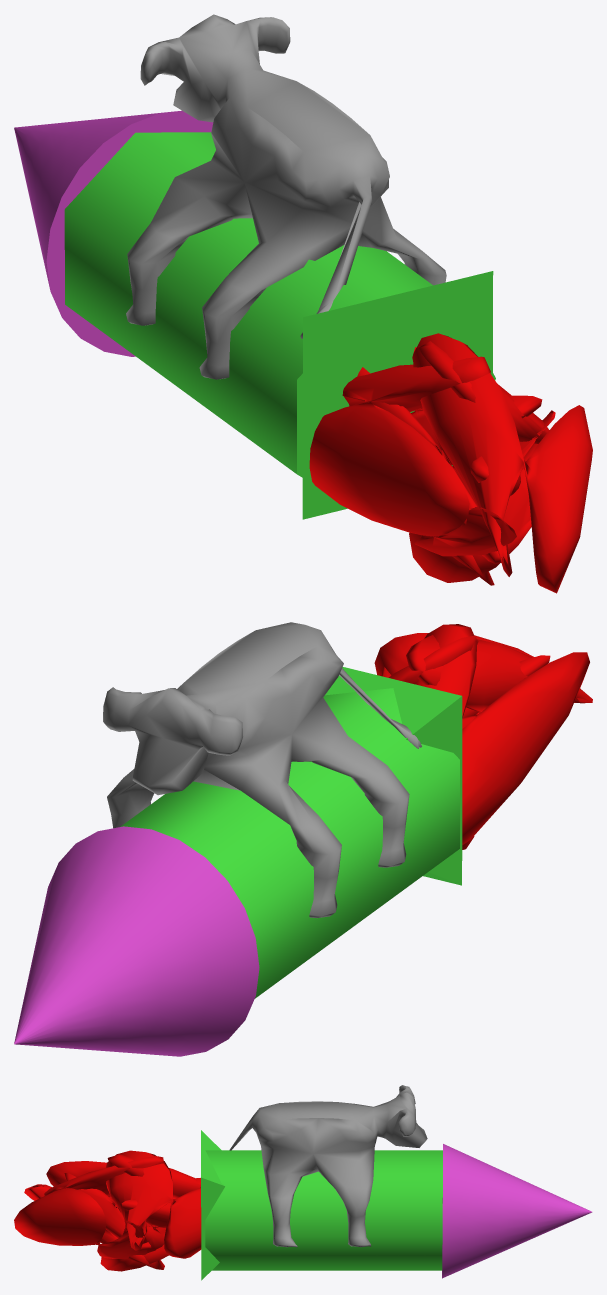
The model's file is RocketCow.FBX.
3 renders of one model, top to bottom at view 1: azimuth 30°, elevation 25°; view 2: azimuth 150°, elevation 25°; view 3: azimuth 270°, elevation 25°, orthographic. The views are drawn at different scales.
Visible parts, largest first — view 1: Box001, Torus Knot001, Cylinder001, Pyramid001, Cone001; view 2: Cone001, Box001, Cylinder001, Torus Knot001, Pyramid001; view 3: Cylinder001, Torus Knot001, Box001, Cone001, Pyramid001.
Part boxes in pixels (x1,y1,x2,y2): Box001: (126,14,446,379); Torus Knot001: (309,333,592,593); Cylinder001: (64,132,495,477); Pyramid001: (302,271,493,519); Cone001: (14,110,213,356); Cone001: (14,826,259,1056); Box001: (103,622,421,918); Cylinder001: (120,688,459,998); Torus Knot001: (374,624,592,849); Pyramid001: (325,667,462,885); Cylinder001: (205,1150,442,1270); Torus Knot001: (14,1150,201,1271); Box001: (229,1085,427,1247); Cone001: (442,1144,592,1278); Pyramid001: (201,1130,225,1280).
Bounding box in the file's own units: 80.17 × 107 × 305.
